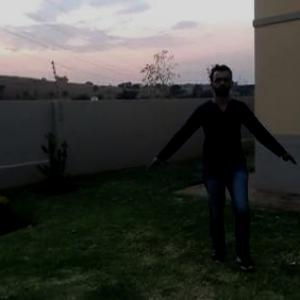land: (152, 66, 296, 269)
